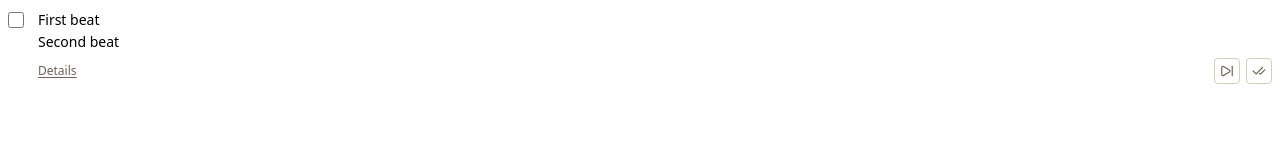
it: StepRow keyword/detail rendering (D3) › offers the detail toggle on a non-current row too
Click the button "Details". click: (57, 71)
box: [38,63,76,79]
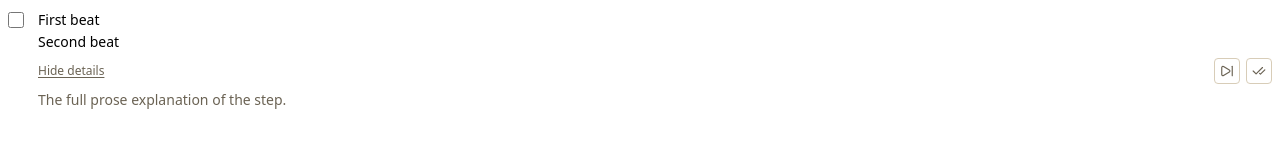
Expected: the text "The full prose explanation of the step." is shown, [38,90,286,109]
